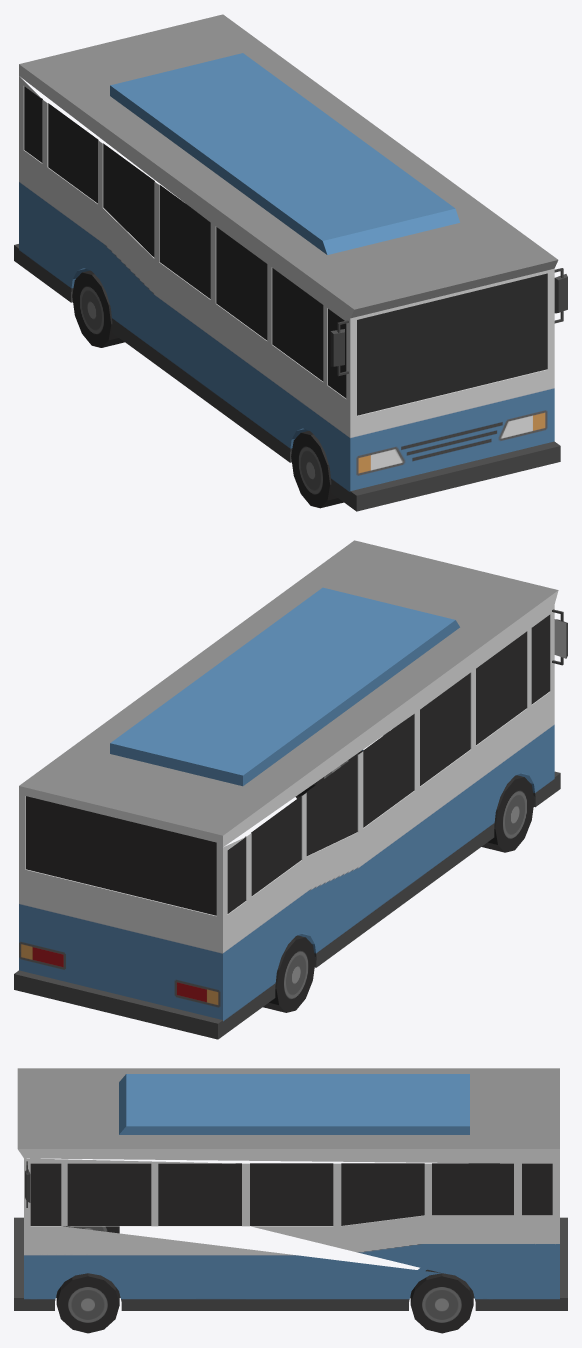
The model's file is bus.gltf.
3 views of the same model, one above another, from view 1: azimuth 30°, elevation 25°; view 2: azimuth 150°, elevation 25°; view 3: azimuth 270°, elevation 25° (orthographic). The views are drawn at different scales.
Parts seen in each view (by area): view 1: bus_v1; view 2: bus_v1; view 3: bus_v1.
Part boxes in pixels (x1=…): bus_v1: x1=14, y1=14, x2=567, y2=511; bus_v1: x1=14, y1=540, x2=567, y2=1039; bus_v1: x1=14, y1=1068, x2=567, y2=1333.
Size of the model in its own units: 3.69 by 3.58 by 9.3.
1 material, 1 textured.
